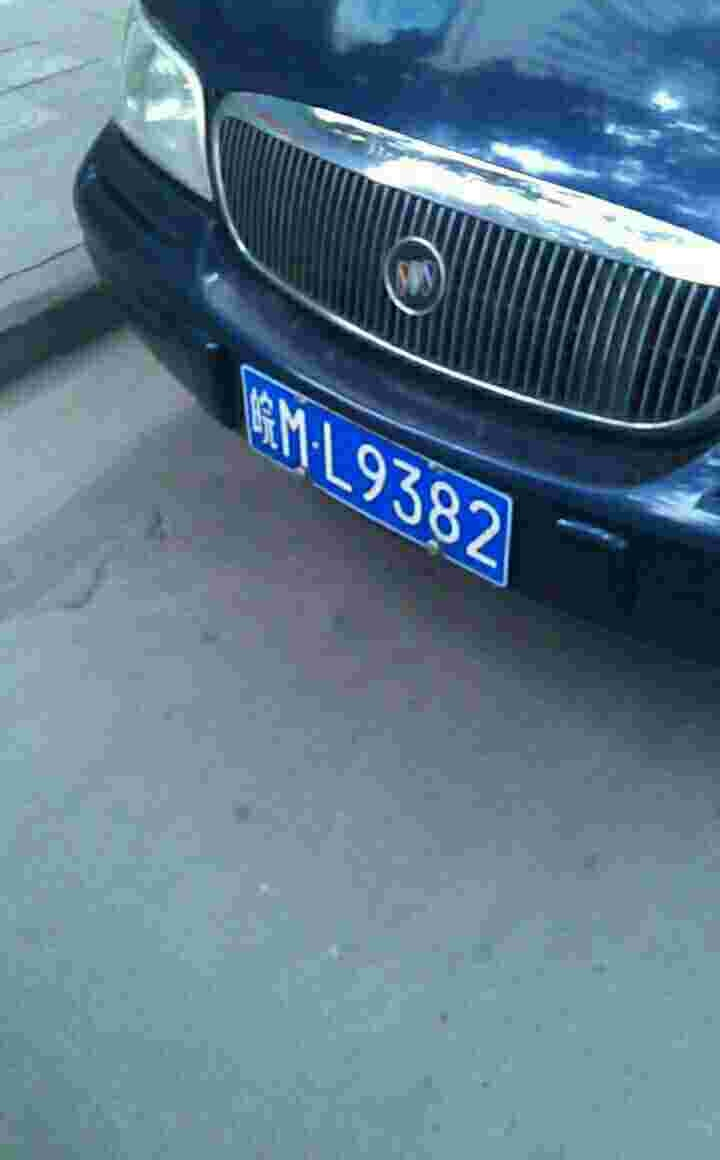license_plate: (235, 353, 513, 597)
